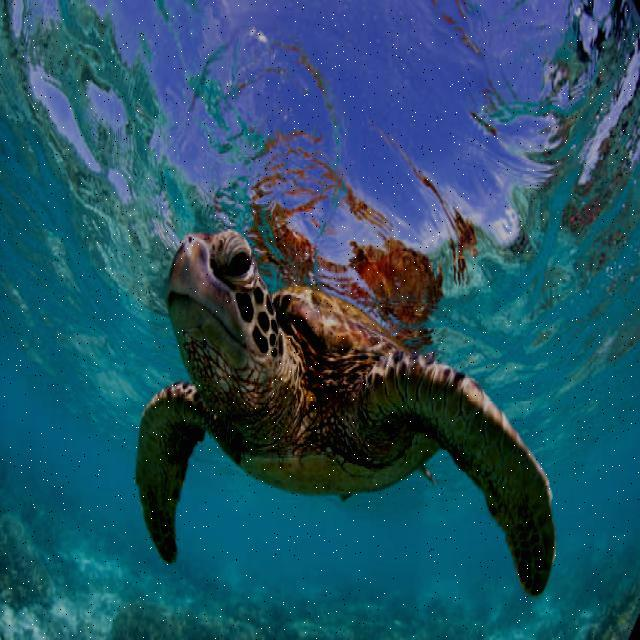tortoise: (109, 219, 586, 603)
